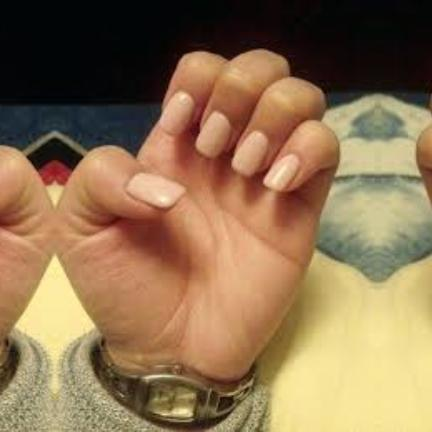Nail: (125, 173, 186, 209), (231, 131, 267, 176), (195, 111, 230, 157), (158, 90, 194, 134), (262, 154, 299, 191)
